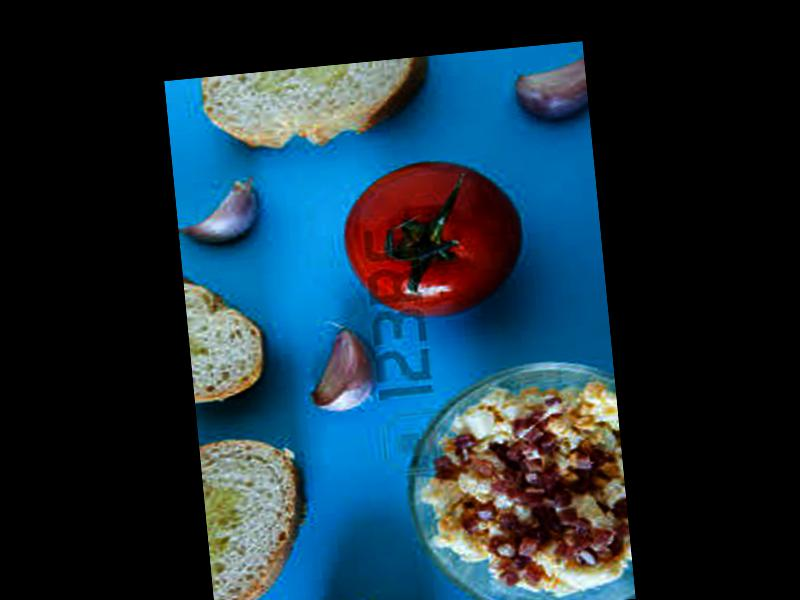Tomato: (336, 153, 526, 318)
